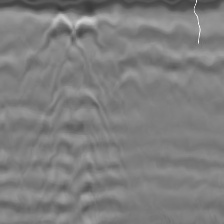Utility: (41, 7, 107, 71)
